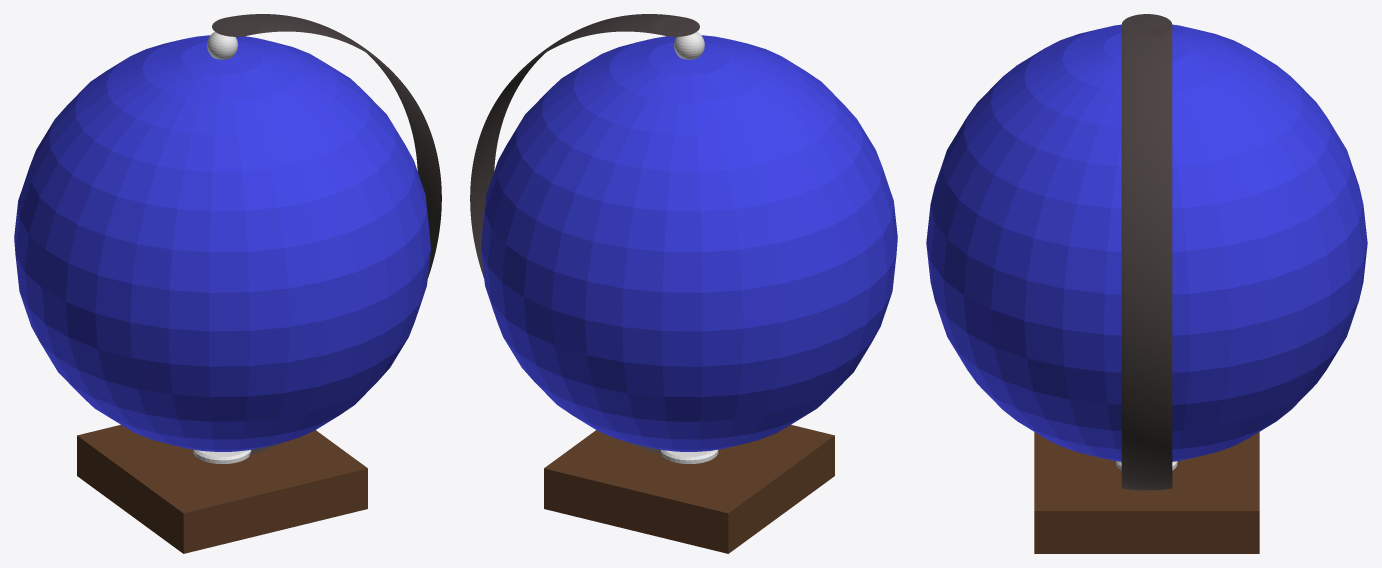
The model's file is world.glb.
The picture shows the model from 3 angles, left to right: view 1: azimuth 30°, elevation 25°; view 2: azimuth 150°, elevation 25°; view 3: azimuth 270°, elevation 25°; orthographic projection. The views are drawn at different scales.
Visible parts, largest first — view 1: Sphere, Cube, Cylinder.002, Sphere.001, Cylinder; view 2: Sphere, Cube, Cylinder.002, Sphere.001, Cylinder; view 3: Sphere, Cylinder.002, Cube.
Boxes of the visible parts, left/top/right/bottom form: Sphere: left=14, top=35, right=430, bottom=451; Cube: left=77, top=425, right=367, bottom=553; Cylinder.002: left=212, top=14, right=441, bottom=455; Sphere.001: left=207, top=32, right=237, bottom=59; Cylinder: left=193, top=449, right=251, bottom=463; Sphere: left=481, top=35, right=897, bottom=451; Cube: left=544, top=425, right=834, bottom=553; Cylinder.002: left=470, top=14, right=699, bottom=455; Sphere.001: left=674, top=32, right=704, bottom=59; Cylinder: left=660, top=449, right=718, bottom=463; Sphere: left=926, top=24, right=1367, bottom=461; Cylinder.002: left=1121, top=14, right=1172, bottom=490; Cube: left=1034, top=432, right=1259, bottom=553.
Size of the model in its own units: 2.68 by 3.04 by 2.48.
